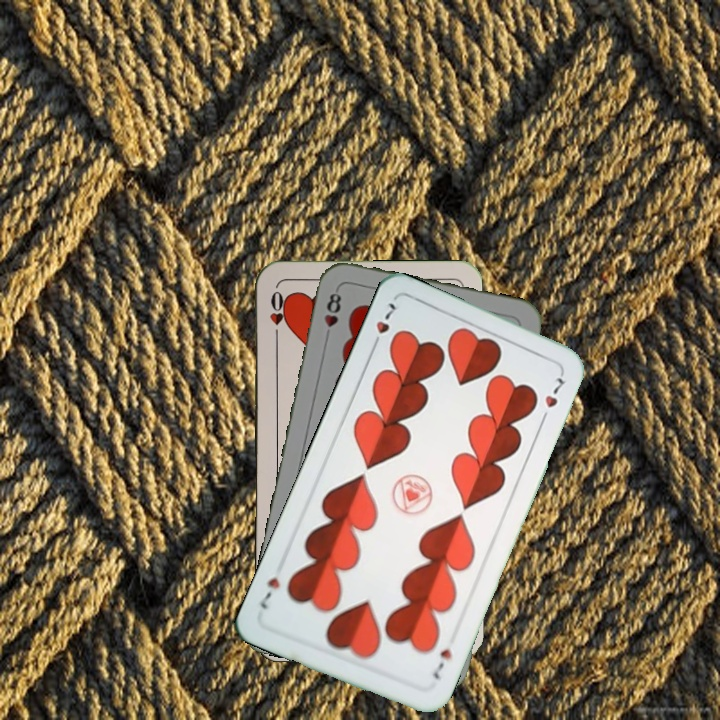H7: (367, 298, 399, 352), (427, 644, 454, 682)
H8: (320, 285, 344, 343)
HO: (266, 287, 288, 345)
